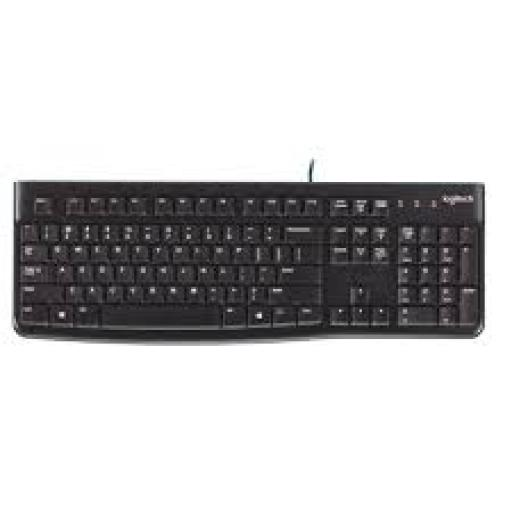KEYBOARD-2: (11, 182, 482, 337)
